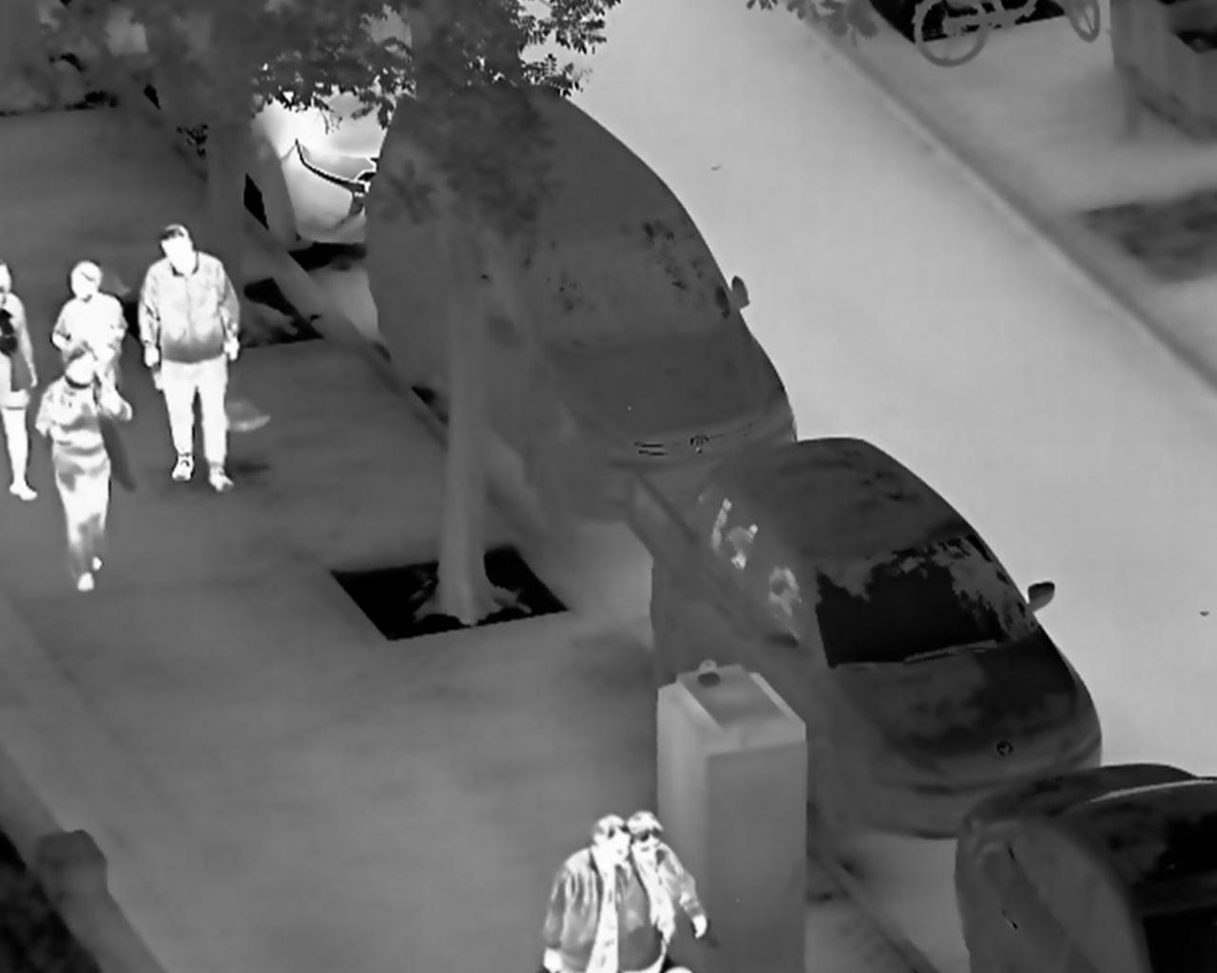person: (135, 220, 241, 494), (35, 343, 135, 597), (541, 814, 664, 973), (53, 254, 132, 425), (617, 805, 705, 948)
